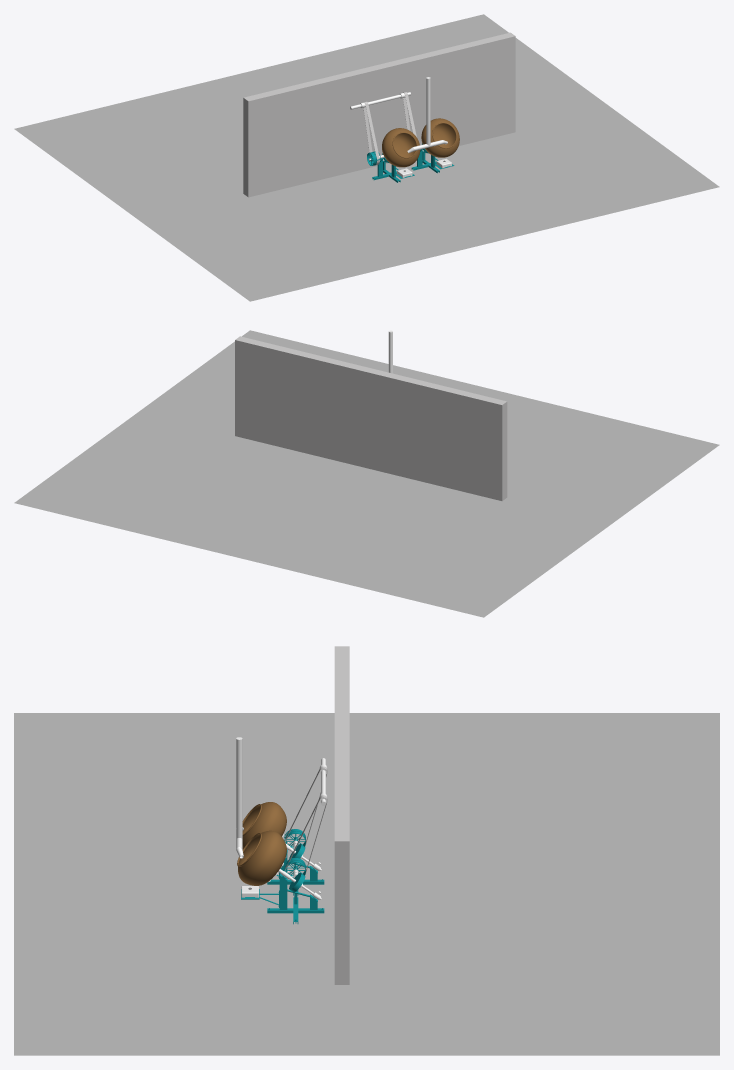
Rendered from koufetieres-.gltf.
3 renders of one model, top to bottom at view 1: azimuth 30°, elevation 25°; view 2: azimuth 150°, elevation 25°; view 3: azimuth 270°, elevation 25°, orthographic. The views are drawn at different scales.
Visible parts, largest first — view 1: Object_296, Object_1, kinoumena merh; view 2: Object_296, Object_1; view 3: Object_296, Object_1, kinoumena merh, Object_286.
Part boxes in pixels (x1=…): Object_296: x1=14, y1=14, x2=719, y2=301; Object_1: x1=243, y1=32, x2=515, y2=197; kinoumena merh: x1=382, y1=118, x2=459, y2=167; Object_296: x1=14, y1=330, x2=719, y2=617; Object_1: x1=235, y1=336, x2=507, y2=500; Object_296: x1=14, y1=713, x2=719, y2=1055; Object_1: x1=334, y1=646, x2=349, y2=984; kinoumena merh: x1=237, y1=802, x2=321, y2=899; Object_286: x1=236, y1=737, x2=242, y2=838.
Size of the model in its own units: 12.86 by 2.79 by 11.19.
